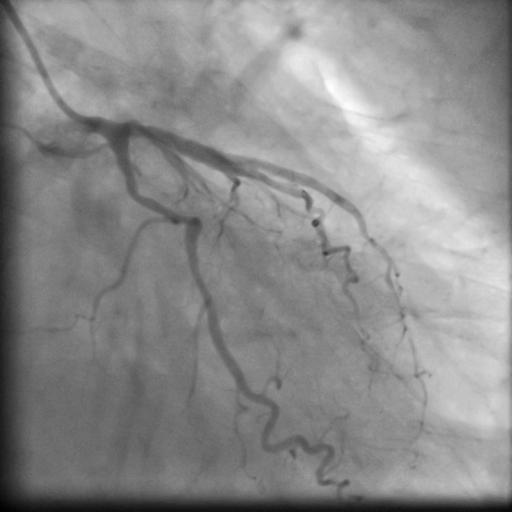Stenosis: (161, 198, 192, 226)
